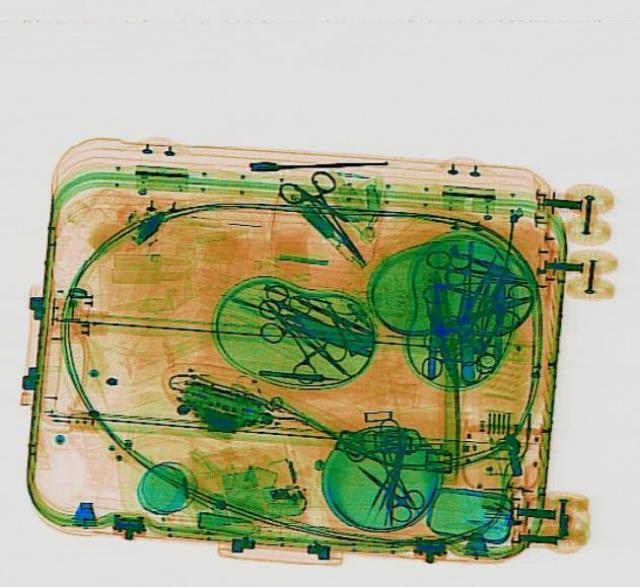Scissors: (269, 162, 386, 274), (235, 278, 353, 383), (338, 448, 430, 526), (418, 249, 530, 304)
